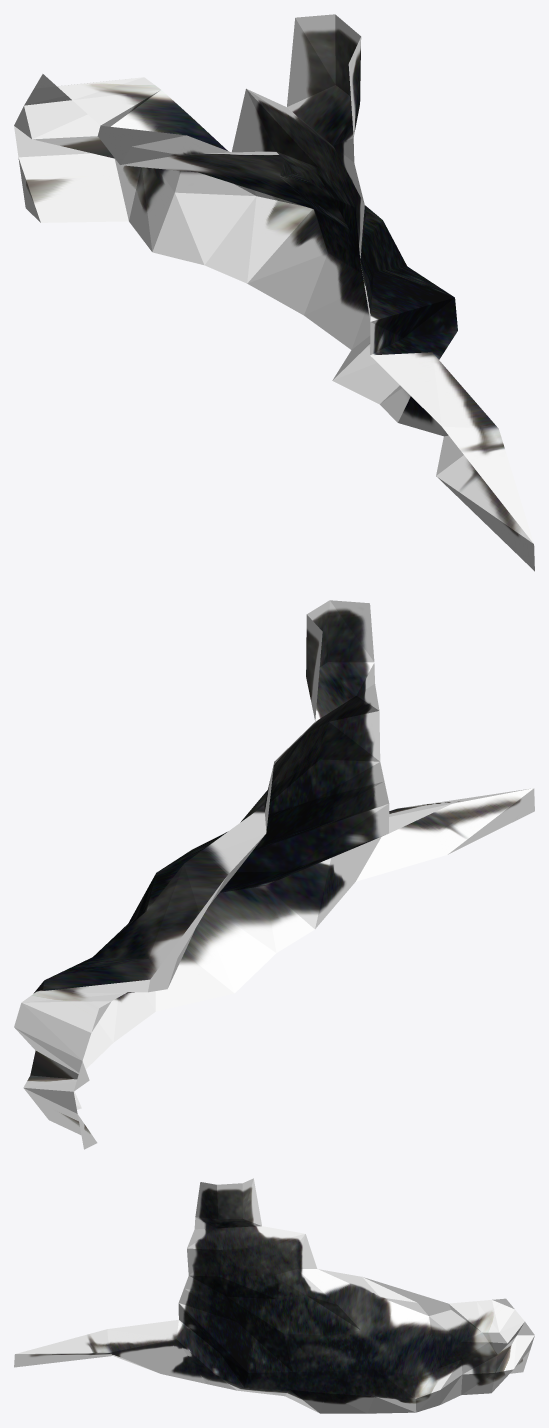
The model's file is Man_02.fbx.
The picture shows the model from 3 angles, top to bottom: view 1: azimuth 30°, elevation 25°; view 2: azimuth 150°, elevation 25°; view 3: azimuth 270°, elevation 25°; orthographic projection. The views are drawn at different scales.
Visible parts, largest first — view 1: Man_02; view 2: Man_02; view 3: Man_02.
Part boxes in pixels (x1,y1,x2,y2): Man_02: (14, 14, 534, 571); Man_02: (14, 600, 534, 1149); Man_02: (14, 1178, 534, 1413).
Bounding box in the file's own units: 0.4577 × 1.01 × 2.29.
Materials: 1 (1 with a texture image).
